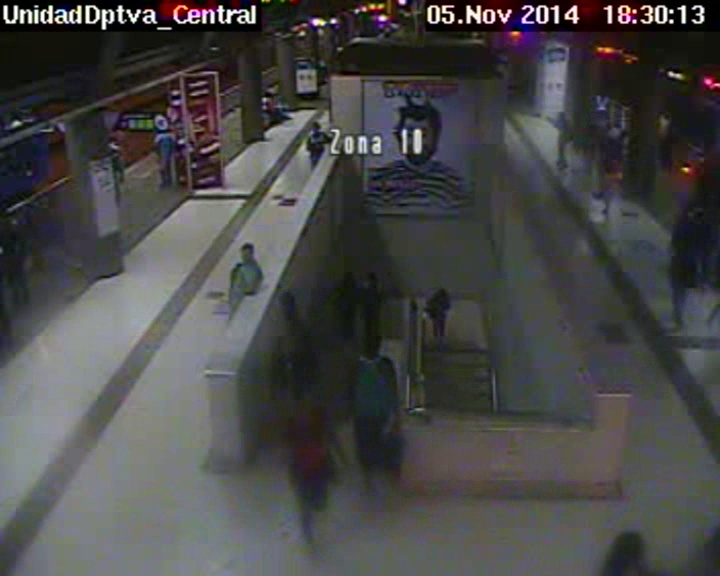person: (277, 291, 297, 312), (237, 242, 258, 261), (361, 341, 380, 360), (300, 386, 318, 406), (678, 208, 693, 225), (431, 289, 449, 303), (364, 270, 379, 284), (341, 272, 355, 287), (309, 121, 323, 134), (157, 122, 171, 134), (606, 119, 617, 134), (608, 149, 618, 160), (557, 110, 567, 120), (263, 90, 272, 101)
